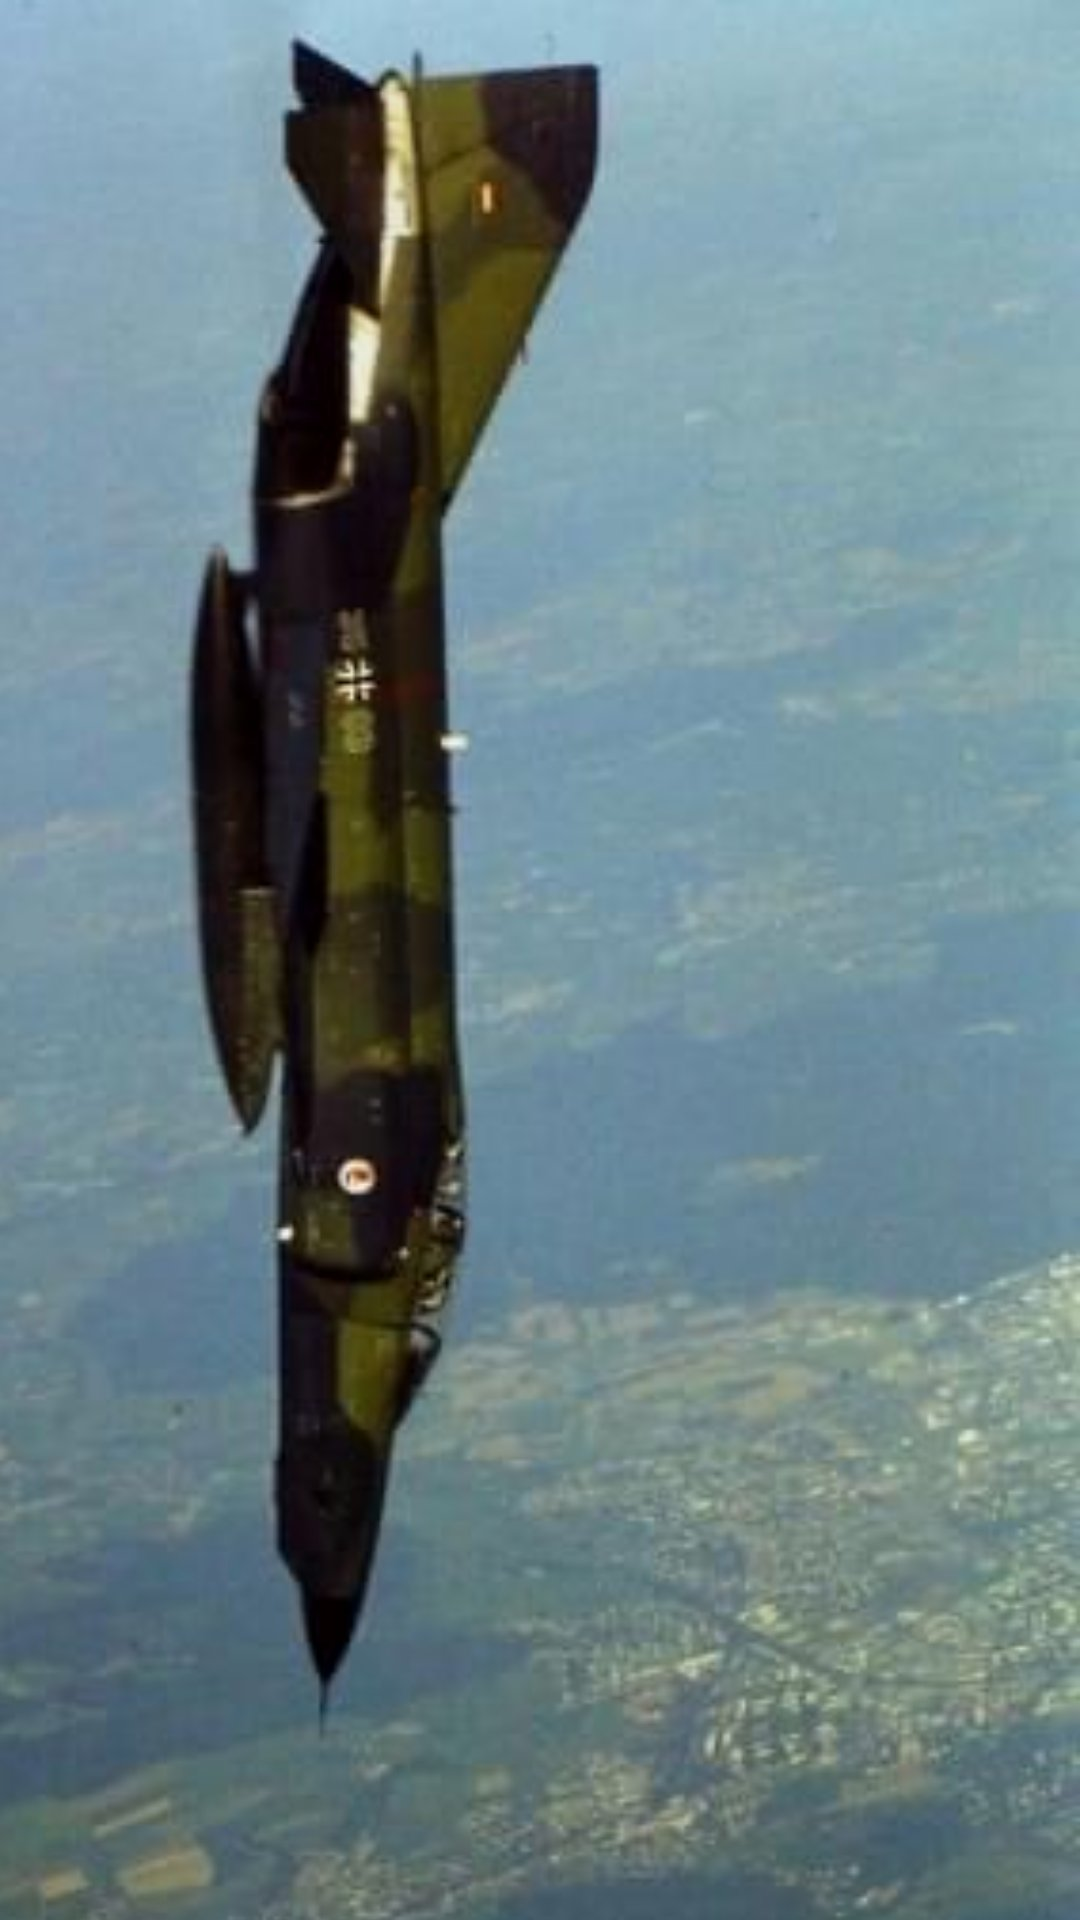F4: (186, 33, 601, 1739)
